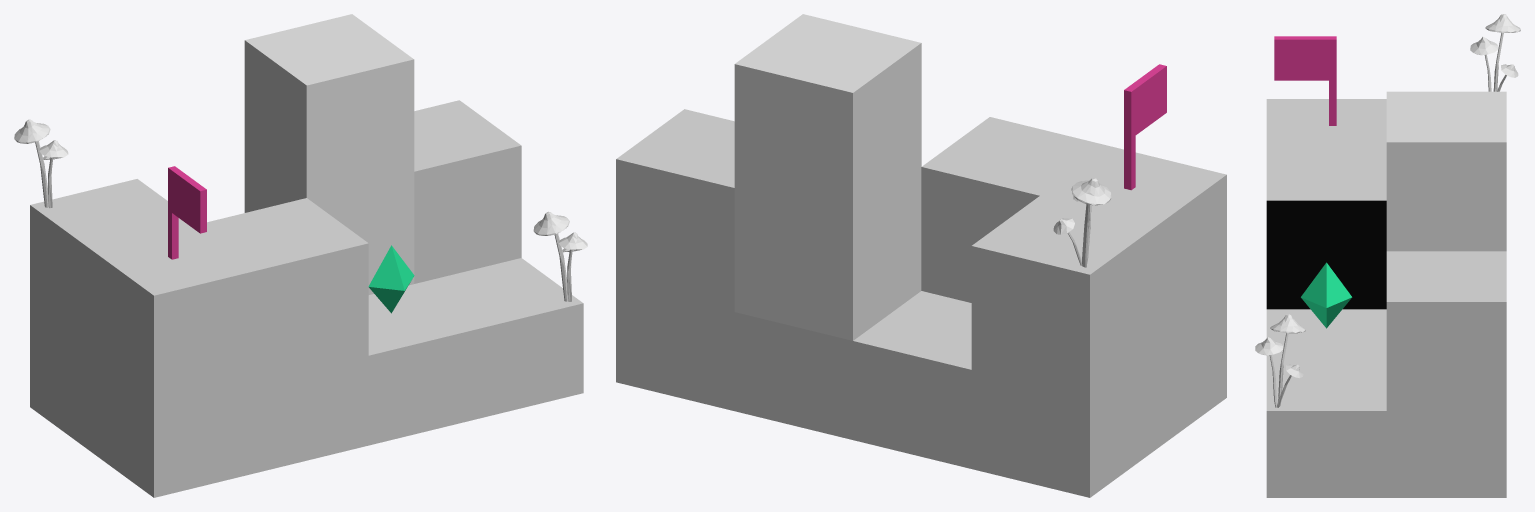
Rendered from Stage5.glb.
3 renders of one model, left to right at view 1: azimuth 30°, elevation 25°; view 2: azimuth 150°, elevation 25°; view 3: azimuth 270°, elevation 25°, orthographic. The views are drawn at different scales.
Visible parts, largest first — view 1: Stage6_0, MoveScaffoldStage6_0, Goal_6, Start_6, Mushroom.006, Mushroom.005; view 2: Stage6_0, MoveScaffoldStage6_0, Goal_6, Mushroom.005; view 3: Stage6_0, MoveScaffoldStage6_0, PROP6_0, Goal_6, Start_6, Mushroom.006, Mushroom.005.
Boxes of the visible parts, x1,y1,x2,y2 form: Stage6_0: (30, 100, 583, 497); MoveScaffoldStage6_0: (244, 14, 414, 294); Goal_6: (168, 166, 206, 259); Start_6: (368, 245, 414, 313); Mushroom.006: (533, 211, 587, 301); Mushroom.005: (14, 119, 68, 208); Stage6_0: (616, 109, 1226, 497); MoveScaffoldStage6_0: (734, 14, 921, 340); Goal_6: (1124, 64, 1166, 190); Mushroom.005: (1053, 178, 1111, 267); Stage6_0: (1266, 99, 1506, 497); MoveScaffoldStage6_0: (1386, 91, 1506, 251); PROP6_0: (1266, 200, 1386, 309); Goal_6: (1274, 36, 1336, 125); Start_6: (1301, 262, 1352, 328); Mushroom.006: (1255, 314, 1305, 407); Mushroom.005: (1470, 14, 1520, 91).
Bounding box in the file's own units: 42.29 × 28 × 22.1.
